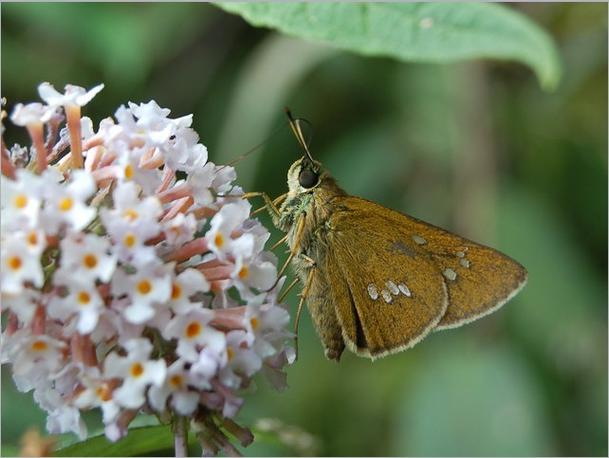Hesperiidae: (221, 110, 528, 365)
